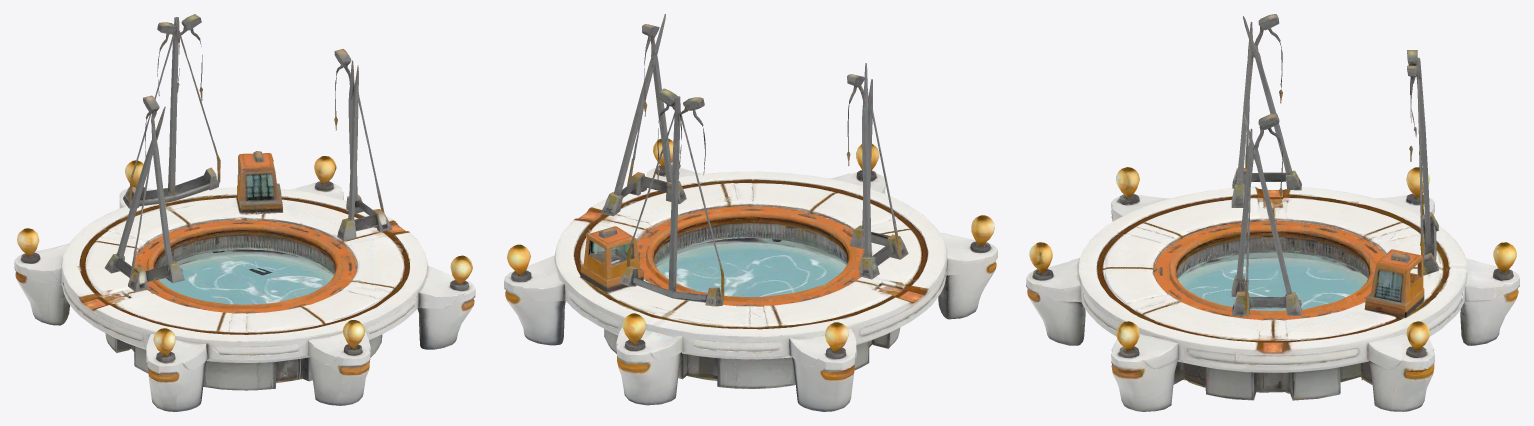
Rendered from ocean-harbor-hub.glb.
The picture shows the model from 3 angles, left to right: view 1: azimuth 30°, elevation 25°; view 2: azimuth 150°, elevation 25°; view 3: azimuth 270°, elevation 25°; orthographic projection. The views are drawn at different scales.
Parts seen in each view (by area): view 1: Mesh_0; view 2: Mesh_0; view 3: Mesh_0.
Boxes of the visible parts, box(x1,y1,x2,y2) form: Mesh_0: box(14, 14, 475, 411); Mesh_0: box(504, 14, 997, 411); Mesh_0: box(1026, 14, 1519, 411).
Size of the model in its own units: 1.52 by 1.2 by 1.9.
Materials: 1 (1 with a texture image).
